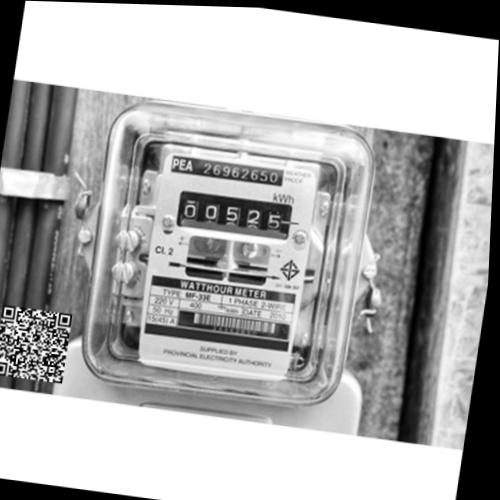qr_code: (0, 305, 73, 383)
